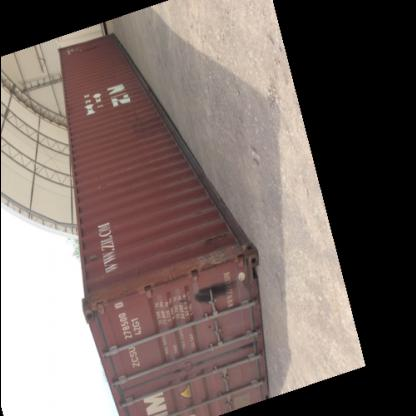Damage: (180, 228, 242, 274), (174, 280, 235, 312), (118, 107, 161, 145), (74, 42, 100, 58), (92, 180, 108, 196), (201, 322, 217, 336), (80, 254, 98, 266)
